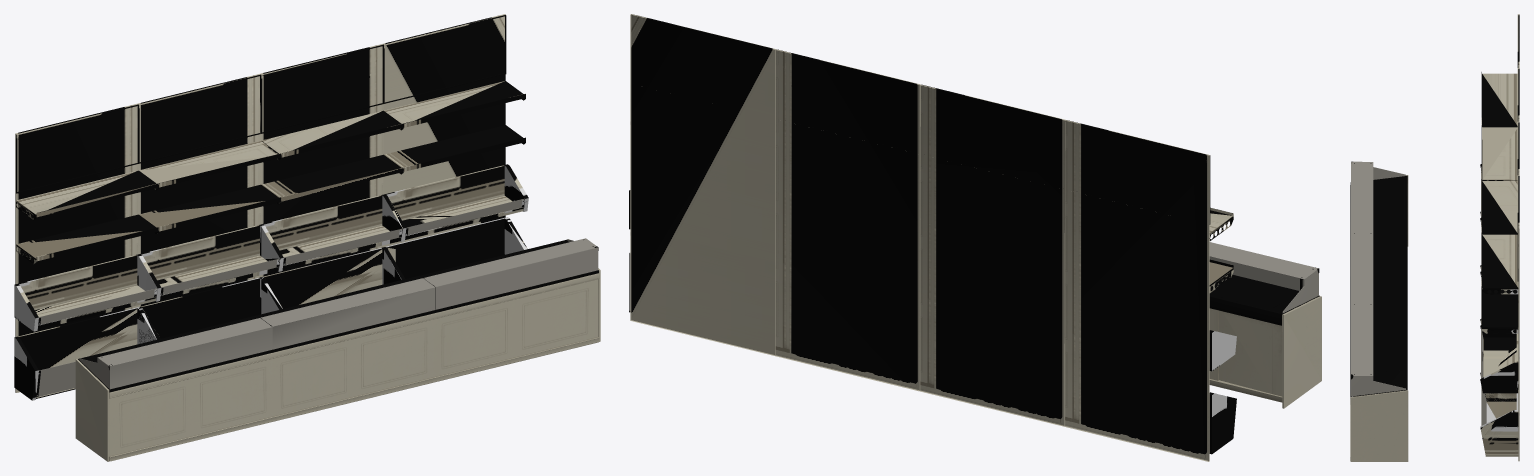
The model's file is banco base1.fbx.
3 views of the same model, side by side, from view 1: azimuth 30°, elevation 25°; view 2: azimuth 150°, elevation 25°; view 3: azimuth 270°, elevation 25° (orthographic). The views are drawn at different scales.
Visible parts, largest first — view 1: BANCO; view 2: BANCO; view 3: BANCO.
Boxes of the visible parts, left/top/right/bottom form: BANCO: left=14, top=14, right=600, bottom=461; BANCO: left=629, top=14, right=1321, bottom=461; BANCO: left=1350, top=14, right=1519, bottom=461.
Bounding box in the file's own units: 577 × 290 × 191.
